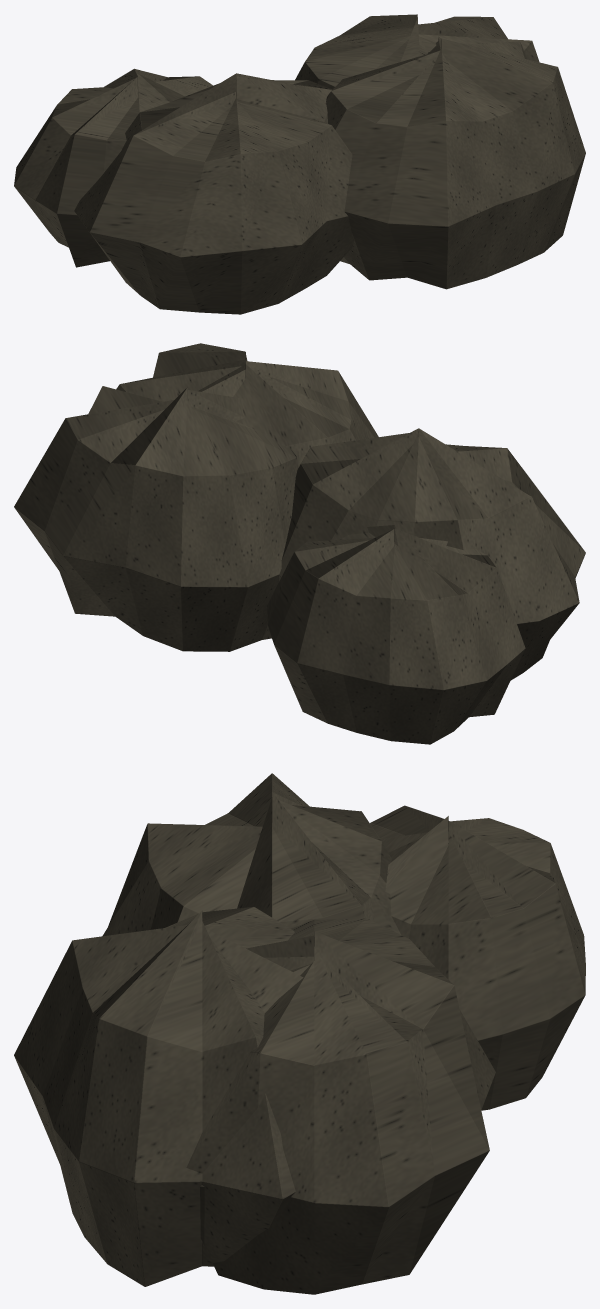
Rendered from PROP-ED02F1904540_lod0.glb.
3 views of the same model, one above another, from view 1: azimuth 30°, elevation 25°; view 2: azimuth 150°, elevation 25°; view 3: azimuth 270°, elevation 25° (orthographic). The views are drawn at different scales.
Visible parts, largest first — view 1: rock.004; view 2: rock.004; view 3: rock.004.
Boxes of the visible parts, bbox=[...] form: rock.004: bbox=[14, 14, 585, 314]; rock.004: bbox=[14, 343, 585, 744]; rock.004: bbox=[14, 773, 585, 1294].
Bounding box in the file's own units: 2.38 × 0.9918 × 1.69.
Materials: 1 (1 with a texture image).
